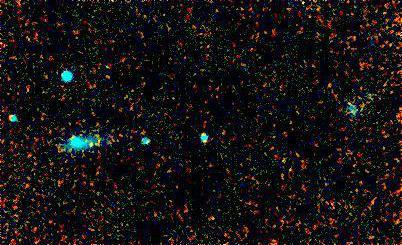star: (79, 129, 109, 159)
